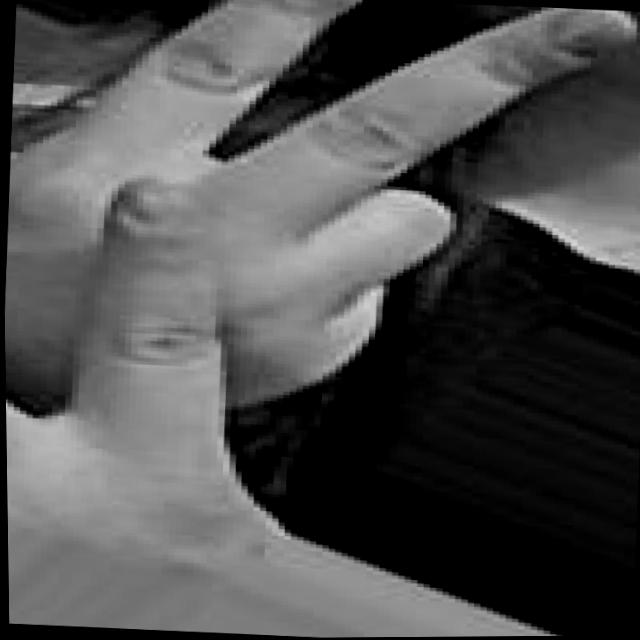Y: (0, 0, 640, 584)
